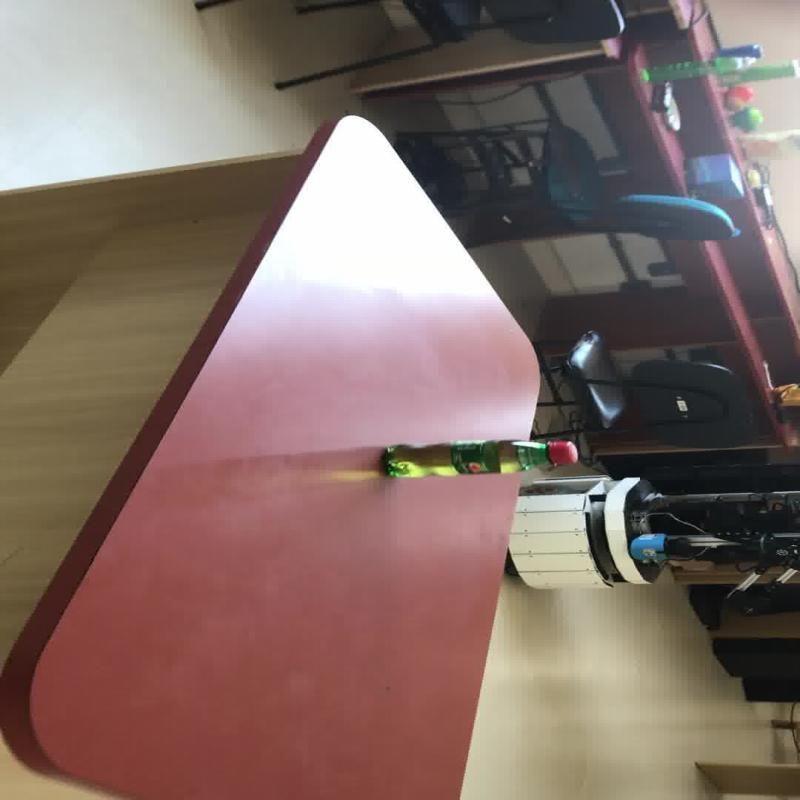guarana: (378, 438, 578, 478)
